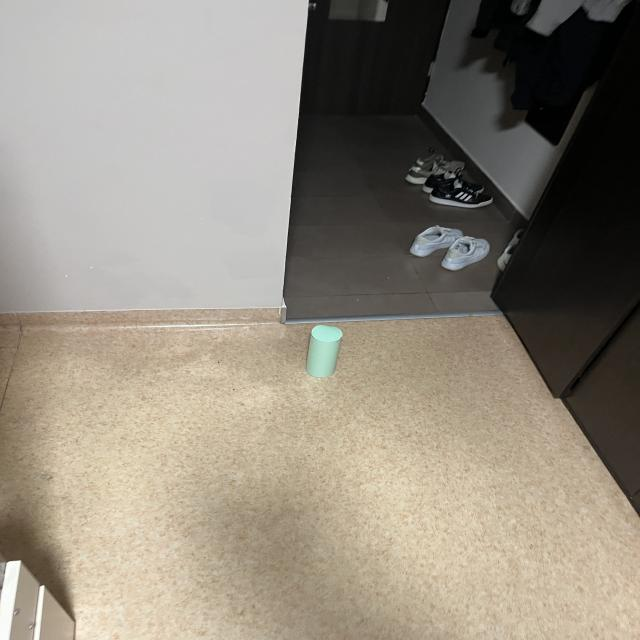meta: (306, 325, 342, 377)
